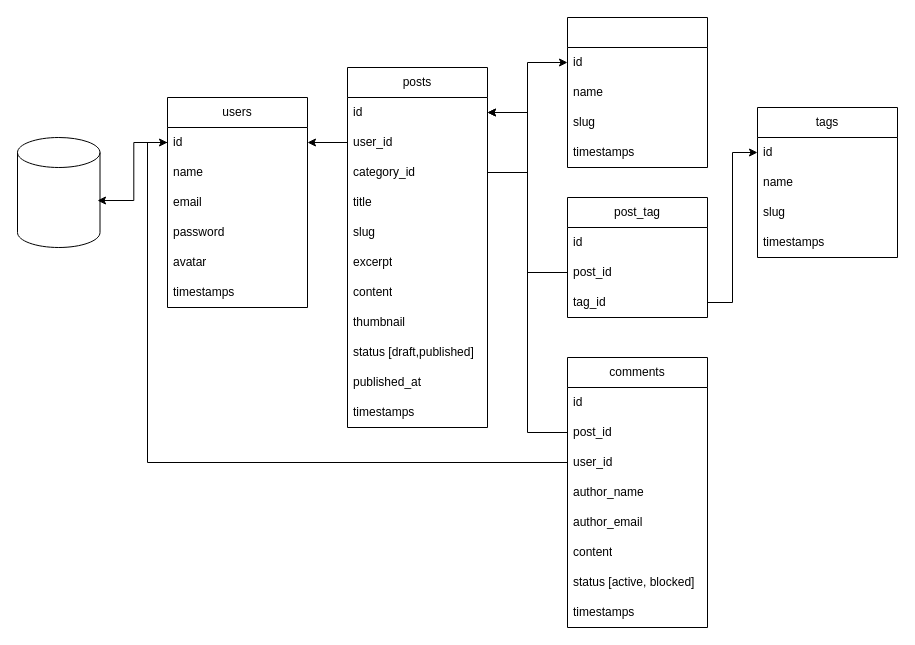
Image size: 915x645. Some labels were removed from this diagram. The box of each missing label's shape, as (x1, y1, x2, y2) in pixels:
categories: (566, 16, 708, 168)
Spatie Role Permission: (16, 136, 100, 248)
